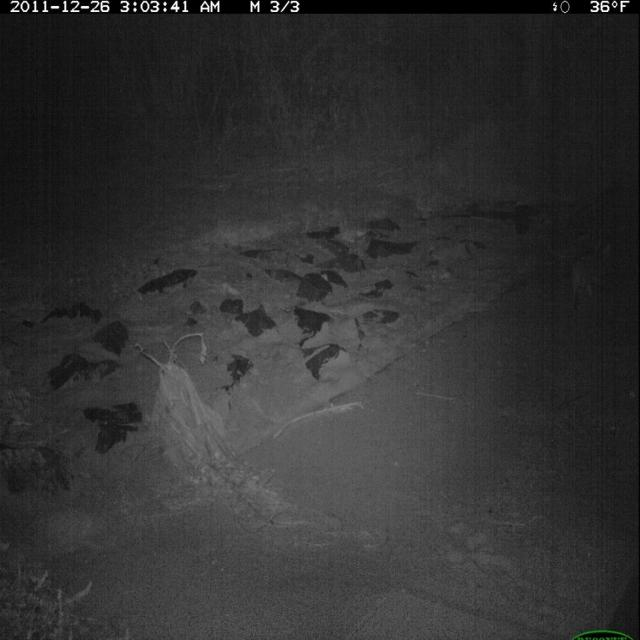cat: (564, 233, 616, 322)
